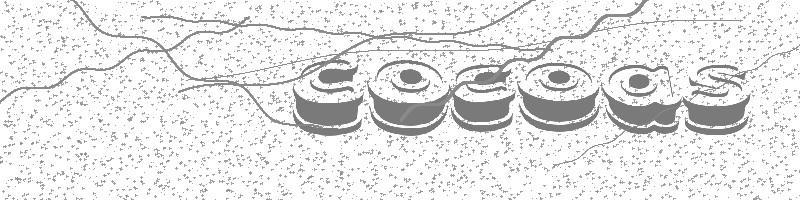a: (601, 63, 682, 135)
c: (292, 58, 364, 137), (451, 63, 516, 133)
o: (366, 58, 450, 137), (517, 61, 602, 133)
s: (683, 62, 752, 137)
